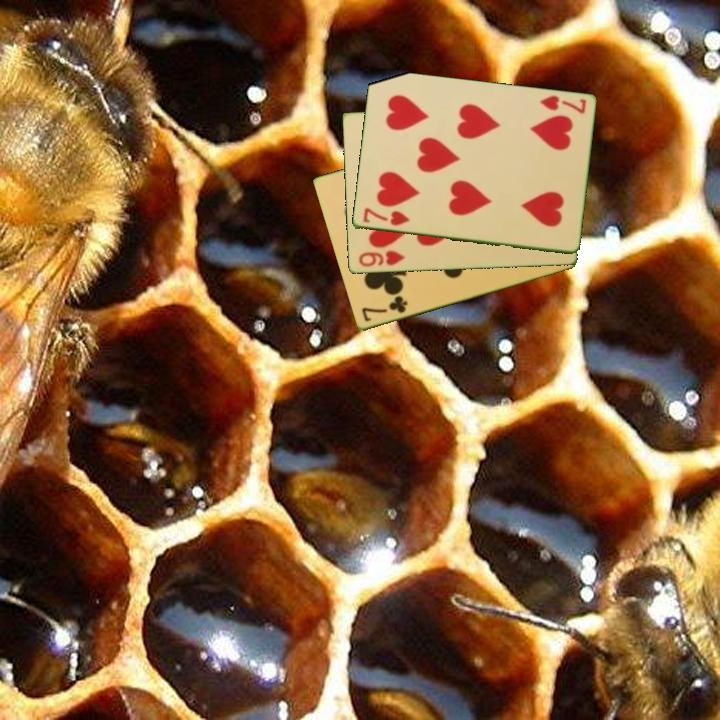7c: (358, 293, 410, 325)
7h: (360, 204, 412, 229), (536, 92, 588, 117)
9h: (355, 247, 407, 270)
